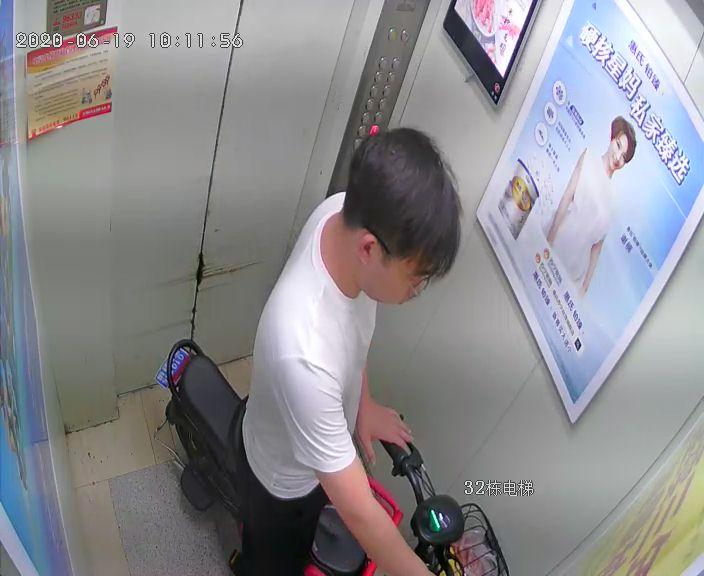Electric-bicycle: (162, 336, 506, 572)
